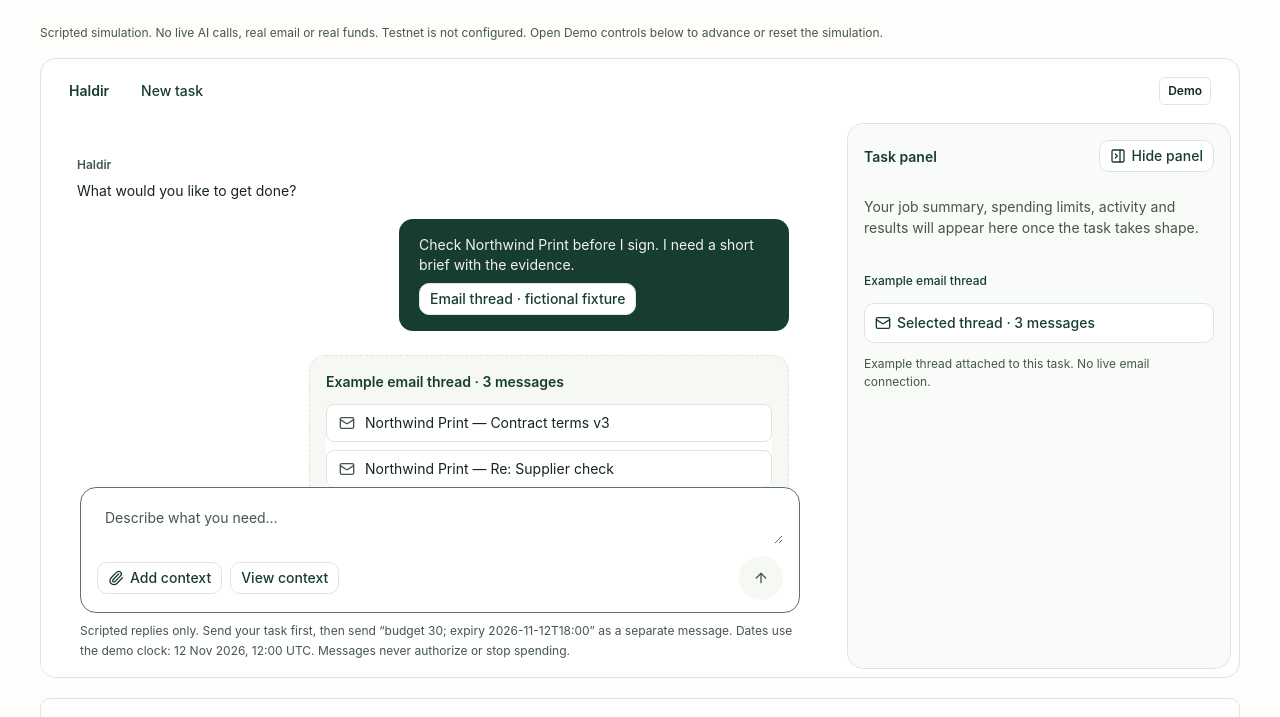
Test: conversation and delivered results omit Assistant speaker labels while retaining You and simulation disclosure
Later steps or results of the test are not shown.
Expected: the element named "Conversation history" does not show "Assistant", [77, 155, 789, 331]
In the text box named "Your message": (440, 522) [97, 500, 783, 544], type "budget 30"
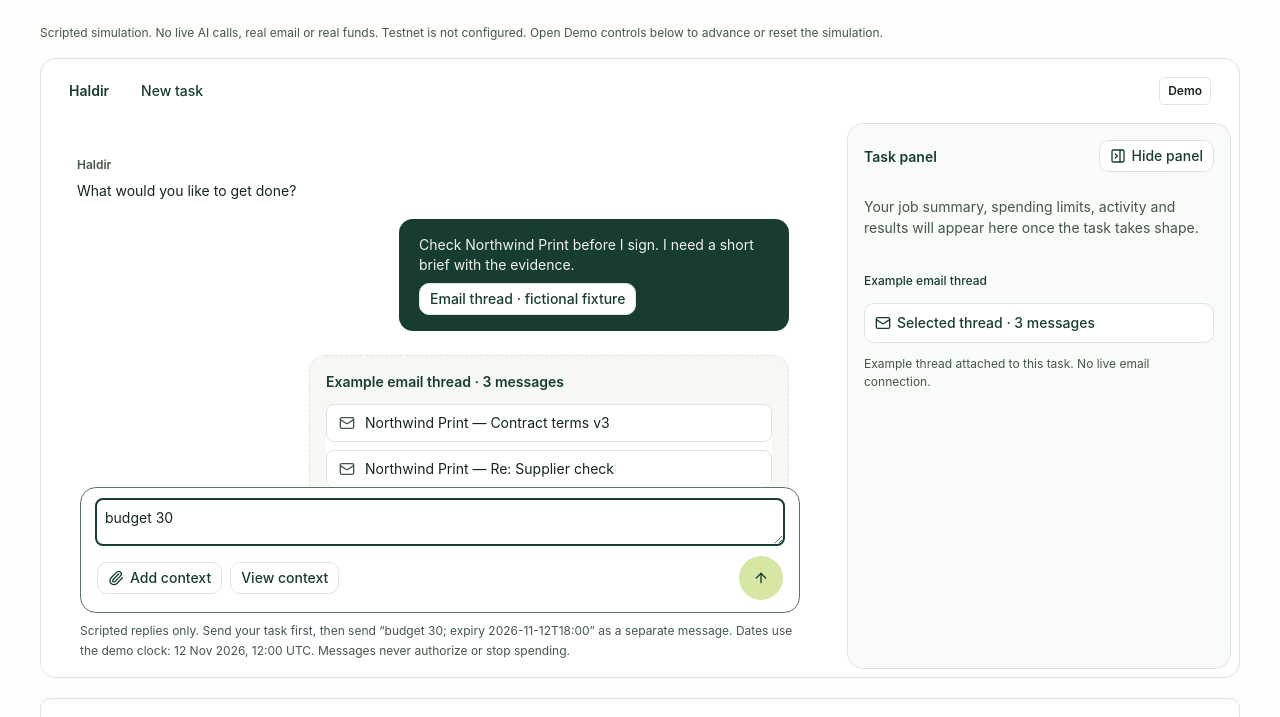
Click the button named "Send message": (761, 578) [739, 556, 783, 600]
(page scrolled)
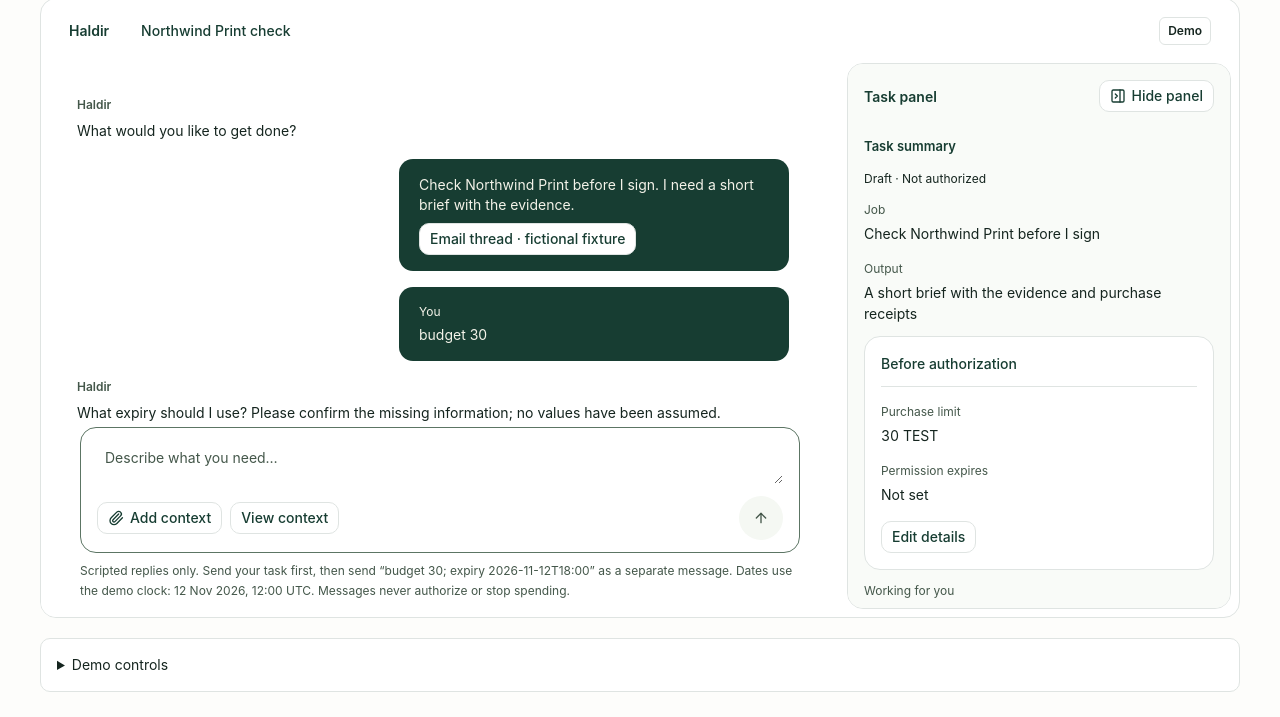
Expected: the element named "Conversation history" shows "you", [419, 304, 440, 319]
Expected: the text with class "message-author" reads "You", [419, 304, 440, 319]
